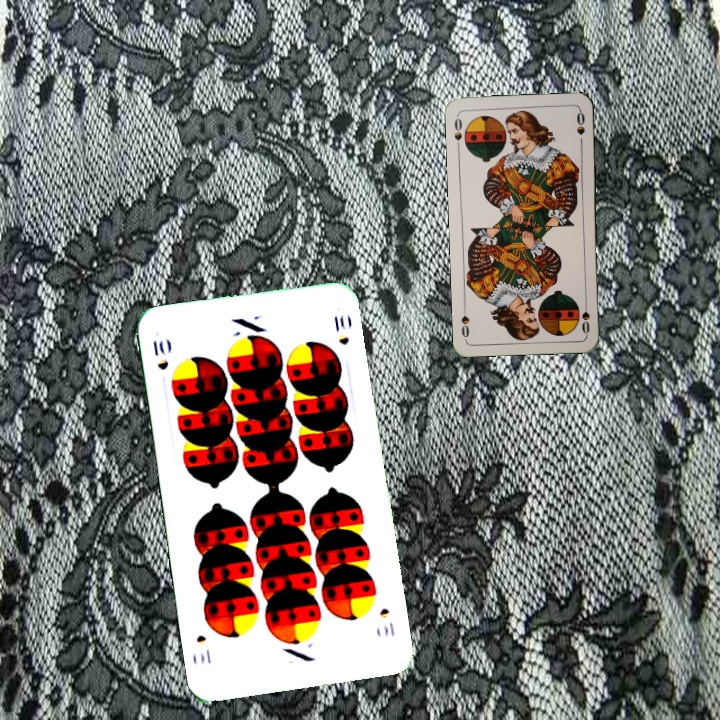S10: (149, 336, 171, 373), (375, 604, 397, 639)
SO: (450, 112, 465, 152), (578, 296, 592, 336)
